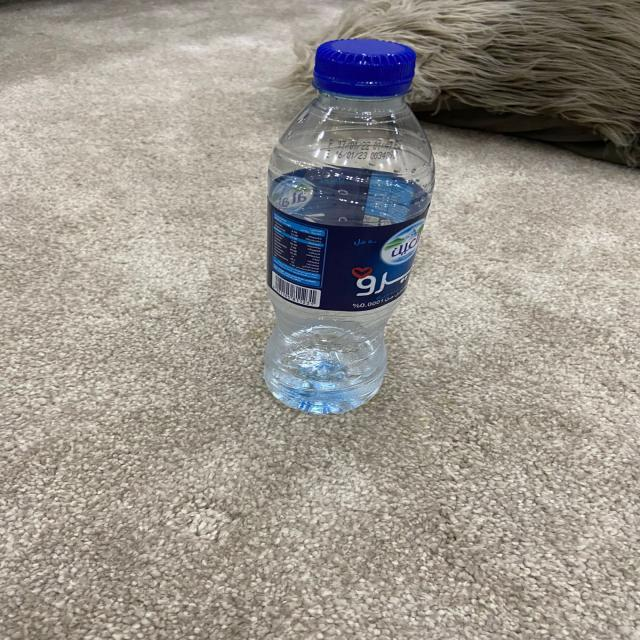chai: (265, 39, 431, 414)
